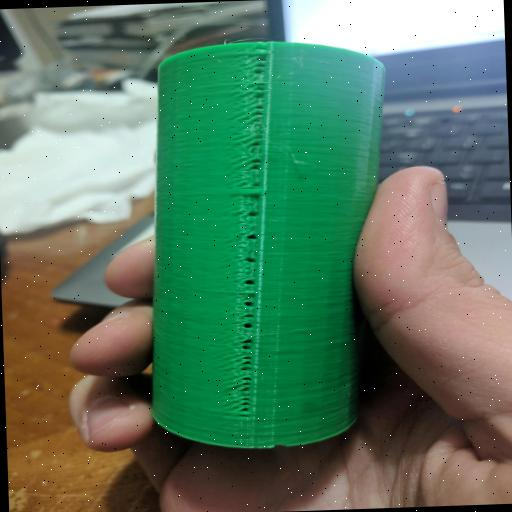cracks: (211, 43, 279, 422)
